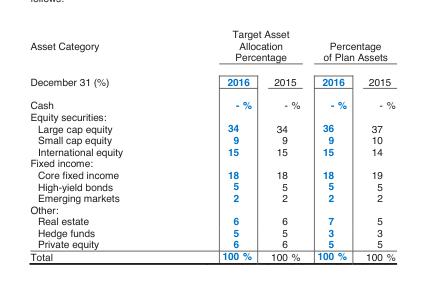table: (29, 29, 394, 261)
table column: (29, 29, 171, 261), (171, 29, 260, 261), (260, 29, 308, 261), (308, 29, 355, 261), (355, 29, 394, 261)
table column header: (29, 29, 394, 93)
table projected row header: (29, 157, 394, 169), (29, 111, 394, 122), (29, 204, 394, 215)
table row: (29, 29, 394, 69), (29, 69, 394, 93), (29, 93, 394, 111), (29, 122, 394, 134), (29, 134, 394, 146), (29, 157, 394, 169), (29, 180, 394, 192), (29, 192, 394, 204), (29, 215, 394, 227), (29, 238, 394, 250), (29, 111, 394, 122), (29, 146, 394, 157), (29, 169, 394, 180), (29, 204, 394, 215), (29, 227, 394, 238), (29, 250, 394, 261)
table spanning cell: (29, 29, 171, 93), (171, 29, 308, 69), (308, 29, 394, 69)
